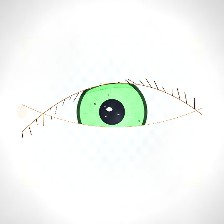pinguecula_lesion: (145, 90, 192, 128)
